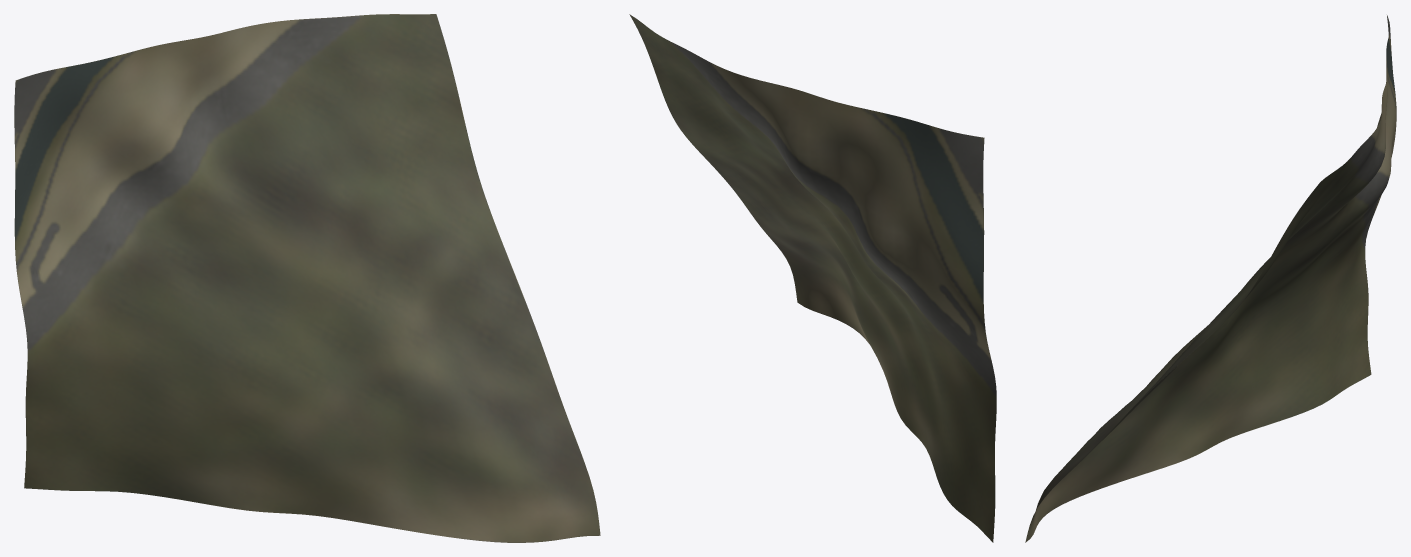
File: ground_mid_06_04.obj
3 renders of one model, left to right at view 1: azimuth 30°, elevation 25°; view 2: azimuth 150°, elevation 25°; view 3: azimuth 270°, elevation 25°, orthographic. The views are drawn at different scales.
Visible parts, largest first — view 1: ground_mid_06_04; view 2: ground_mid_06_04; view 3: ground_mid_06_04.
Boxes of the visible parts, x1,y1,x2,y2 form: ground_mid_06_04: [14, 14, 600, 542]; ground_mid_06_04: [629, 14, 996, 542]; ground_mid_06_04: [1025, 15, 1396, 542].
Bounding box in the file's own units: 200 × 200 × 187.
1 material, 1 textured.
